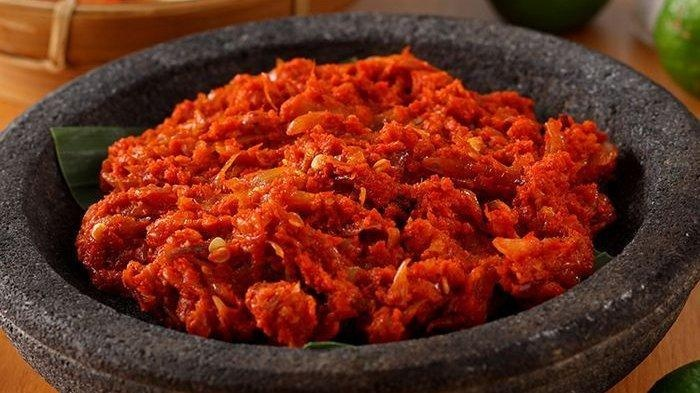sambal: (71, 50, 622, 347)
